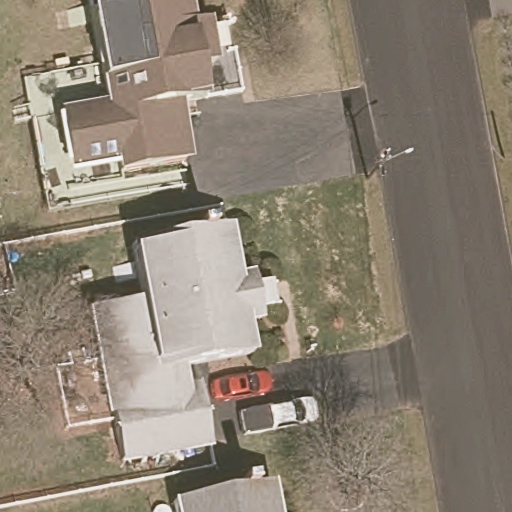DT: (365, 146, 415, 180)
